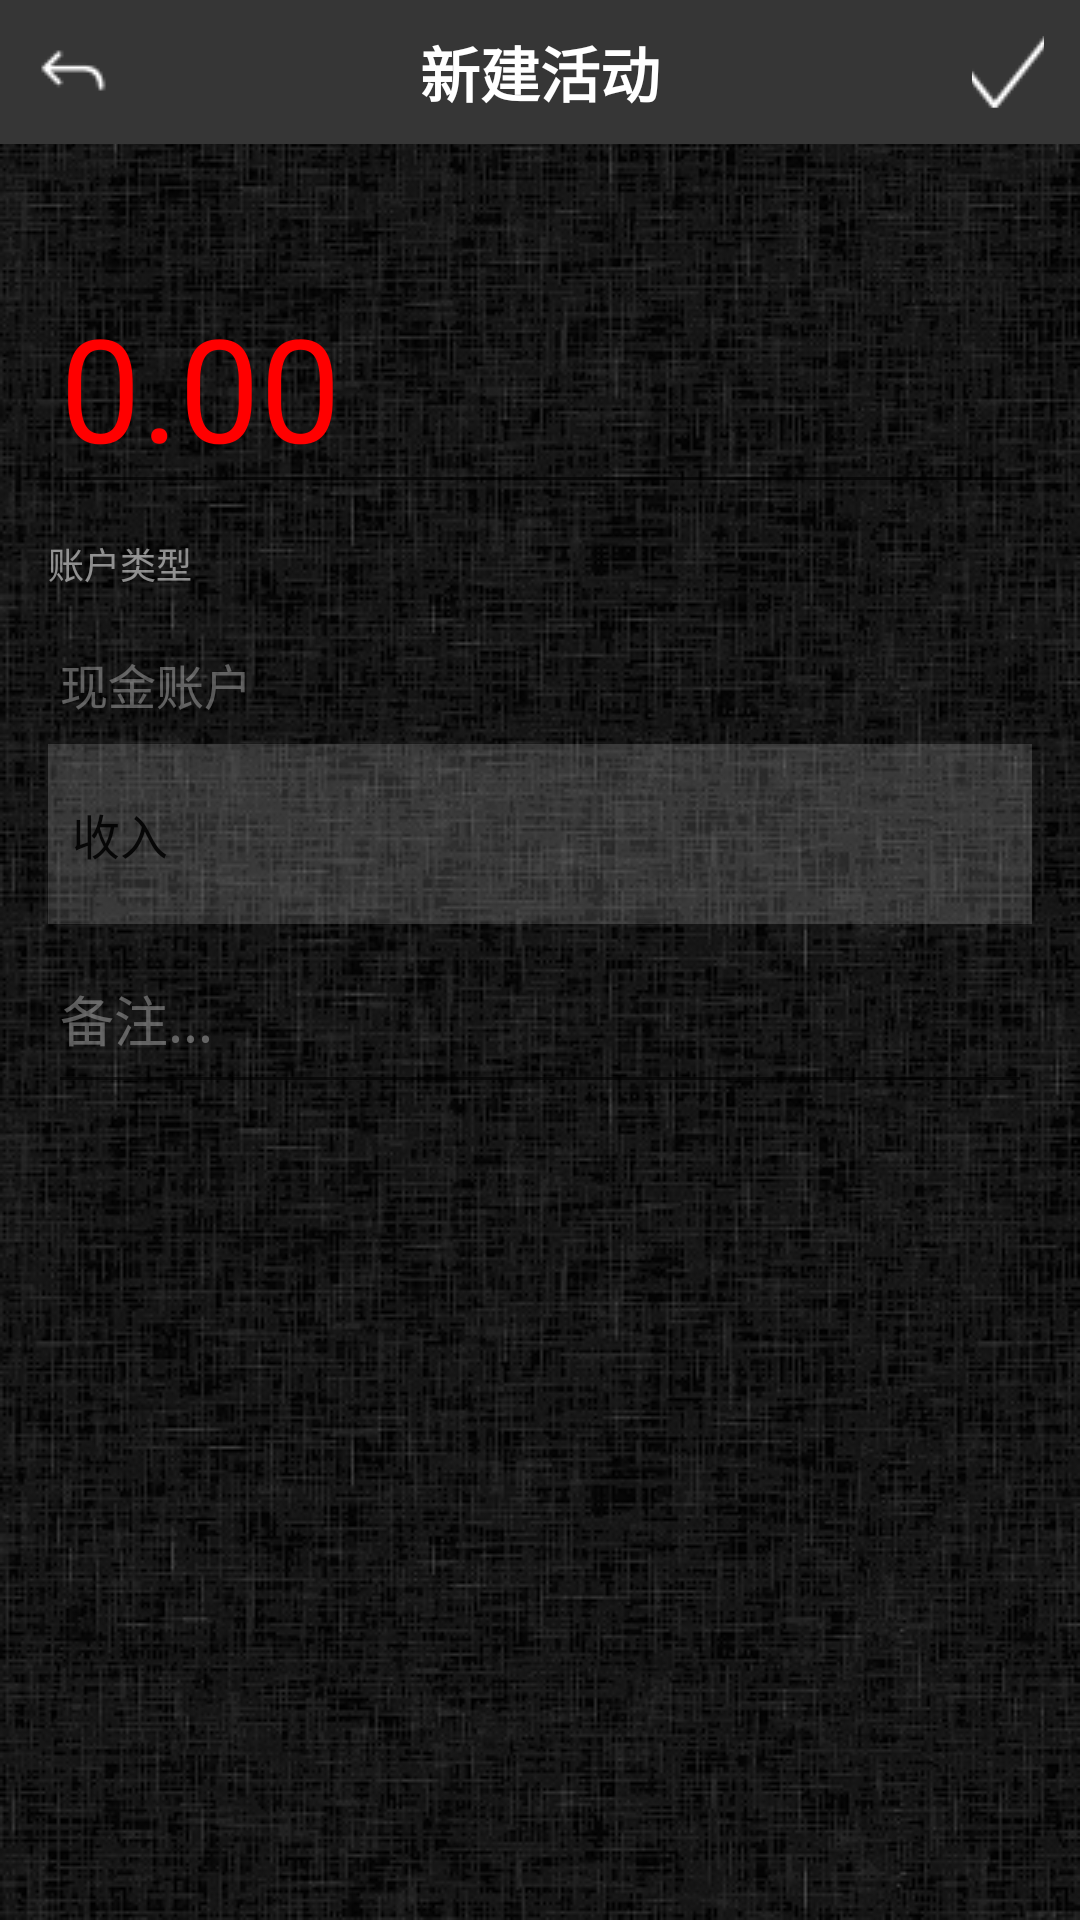

Icons on this 1080px×1920px Android screen, each with its box as (x1, y1, x2, y2):
arrow back: (41, 50, 106, 91)
arrows check: (972, 36, 1044, 108)
